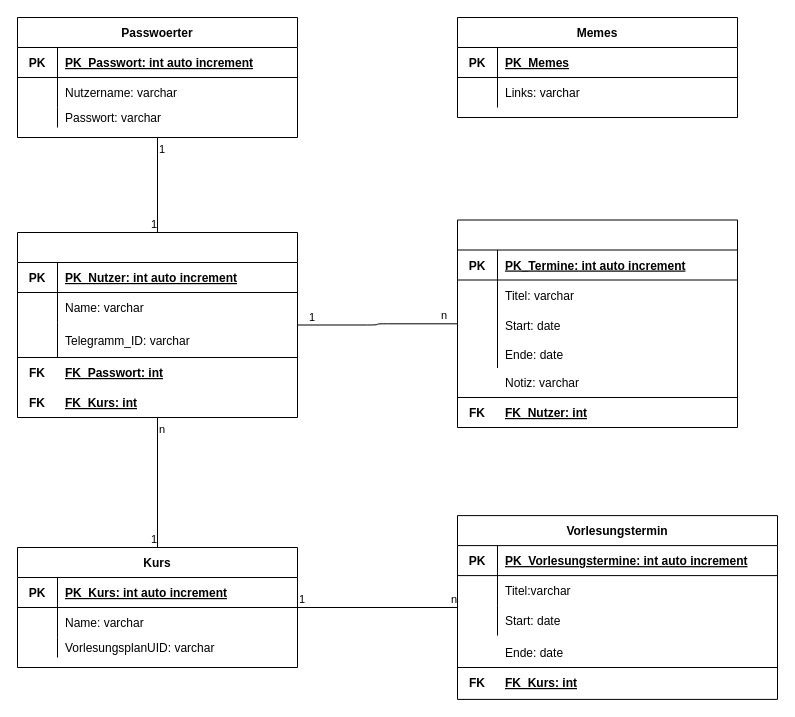
The diagram is 795 pixels wide and 717 high, and some of its shapes have lost their labels. Each missing label, with the box of its shape:
Canvas: (456, 219, 738, 428)
Room: (16, 232, 298, 418)
